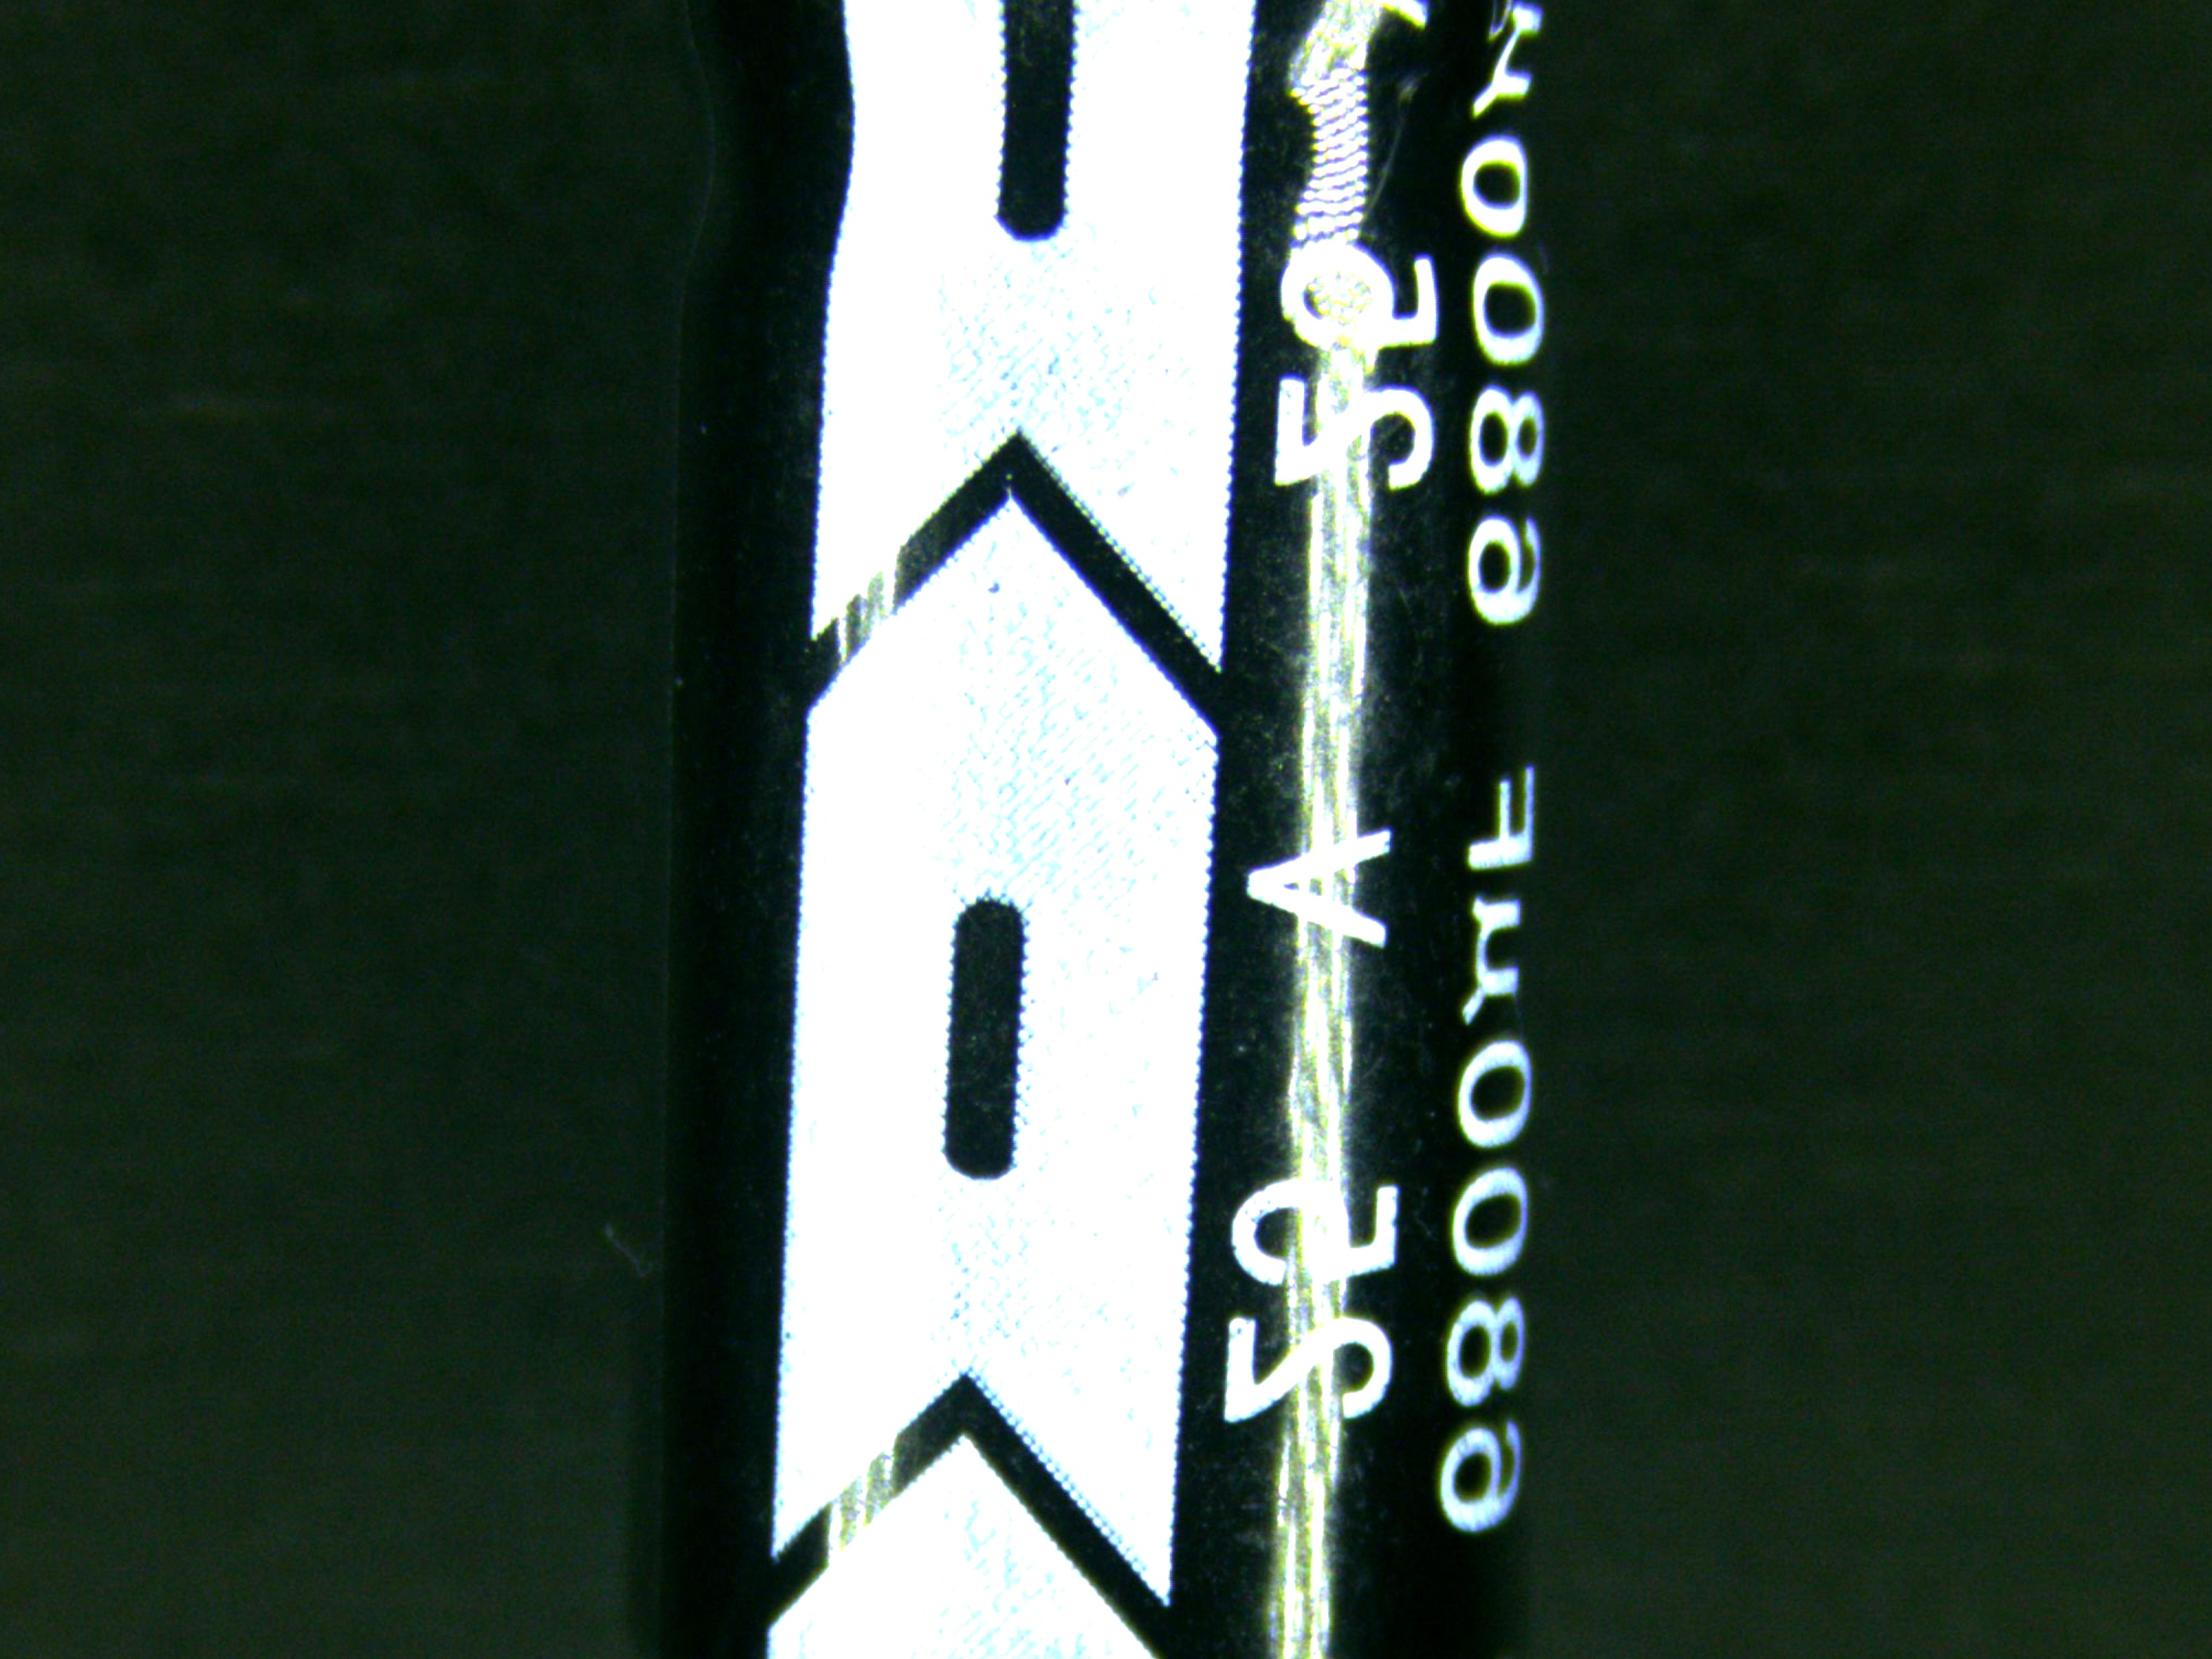c3: (643, 0, 1571, 1659)
